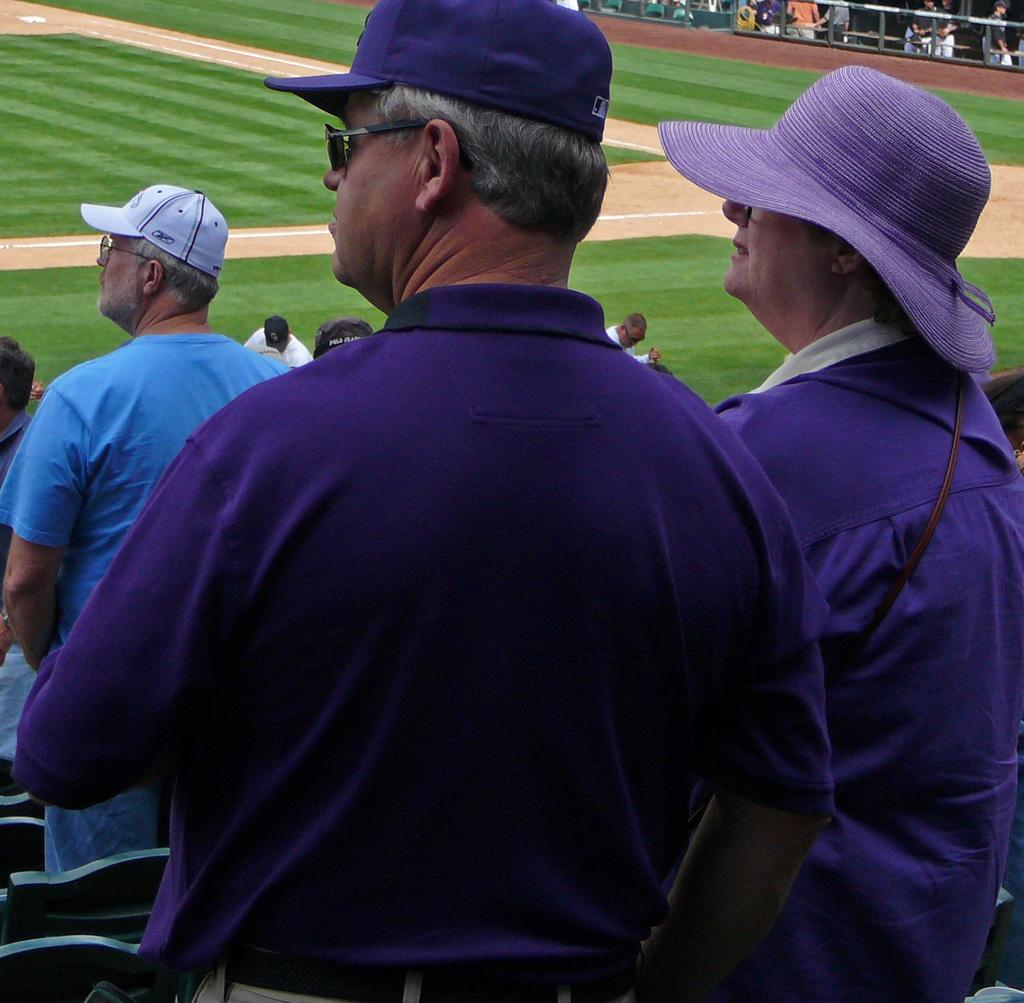Hat: (658, 61, 1000, 376), (264, 0, 610, 144), (76, 180, 232, 276), (310, 316, 372, 356)
